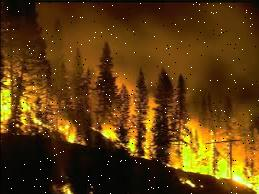fire: (0, 67, 154, 158), (156, 127, 258, 194)
